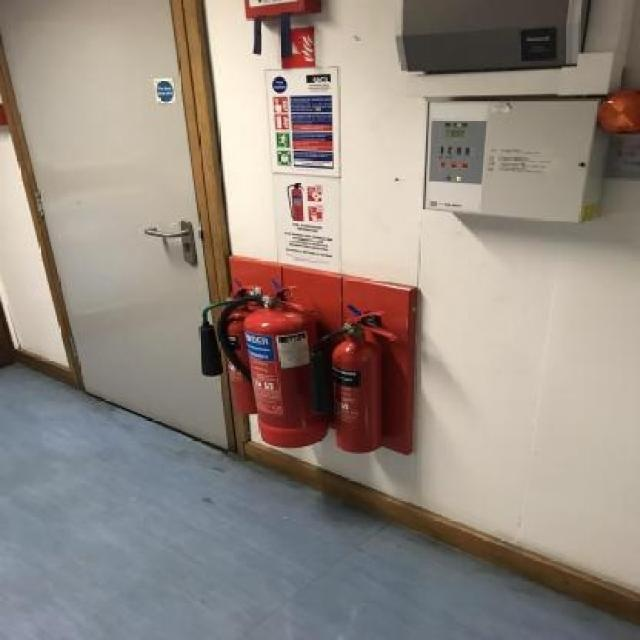fire extinguisher: (219, 286, 328, 448), (310, 311, 399, 452), (199, 286, 267, 417)
